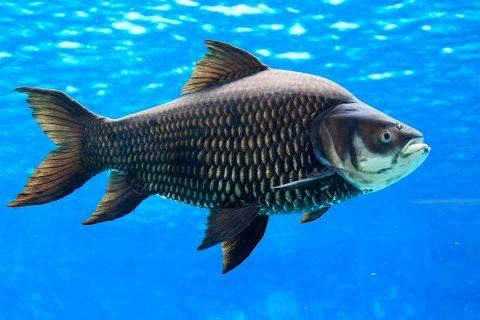Grass Carp: (7, 36, 430, 274)
